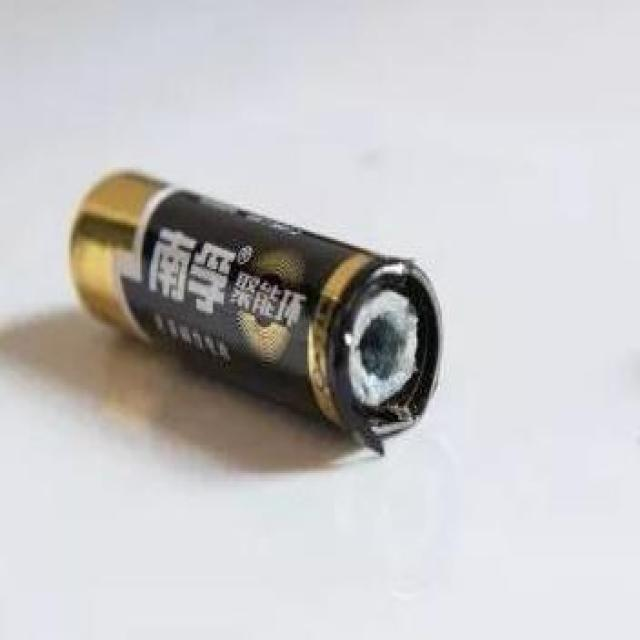-Recyclables - plastic bottle-: (68, 166, 454, 450)
